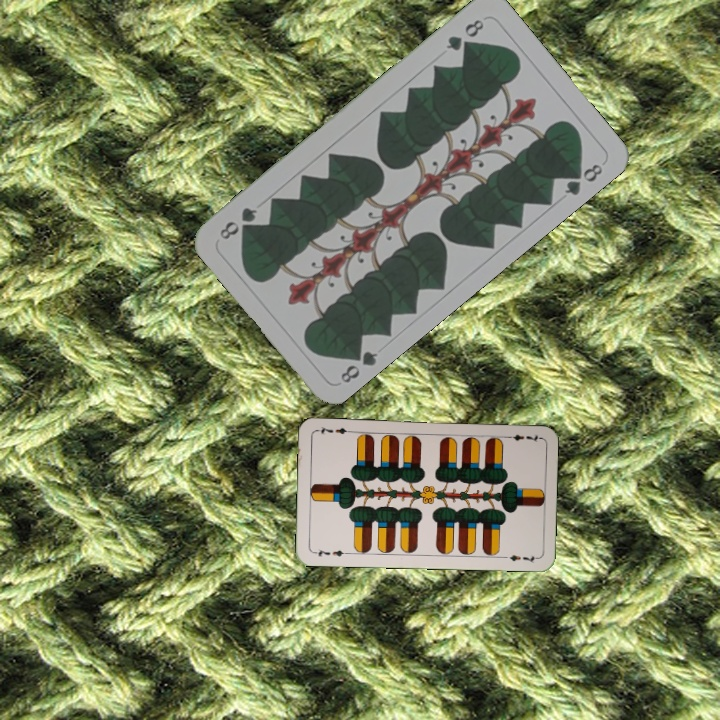E7: (310, 545, 351, 559), (501, 430, 542, 444)
G8: (336, 342, 380, 386), (441, 15, 487, 54)
